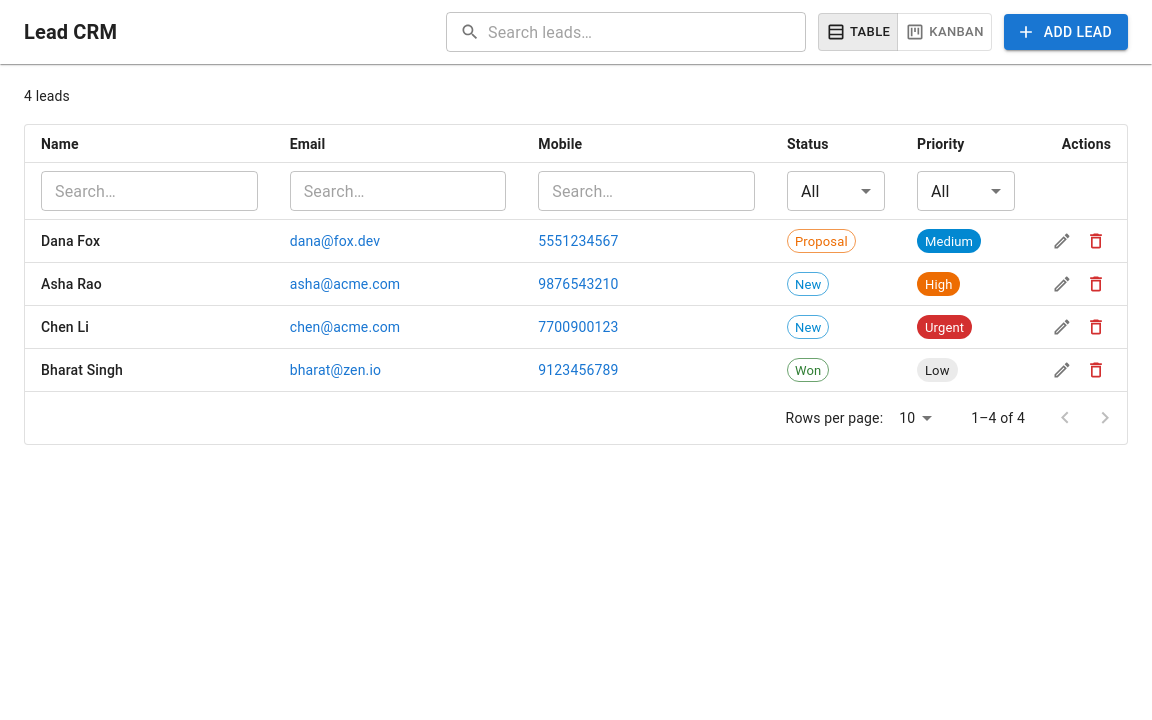
Test: App › deletes after confirmation
The width and height of the screenshot is (1152, 720).
Click the button named "Delete Chen Li": (1096, 327) x1=1081 y1=312 x2=1111 y2=342
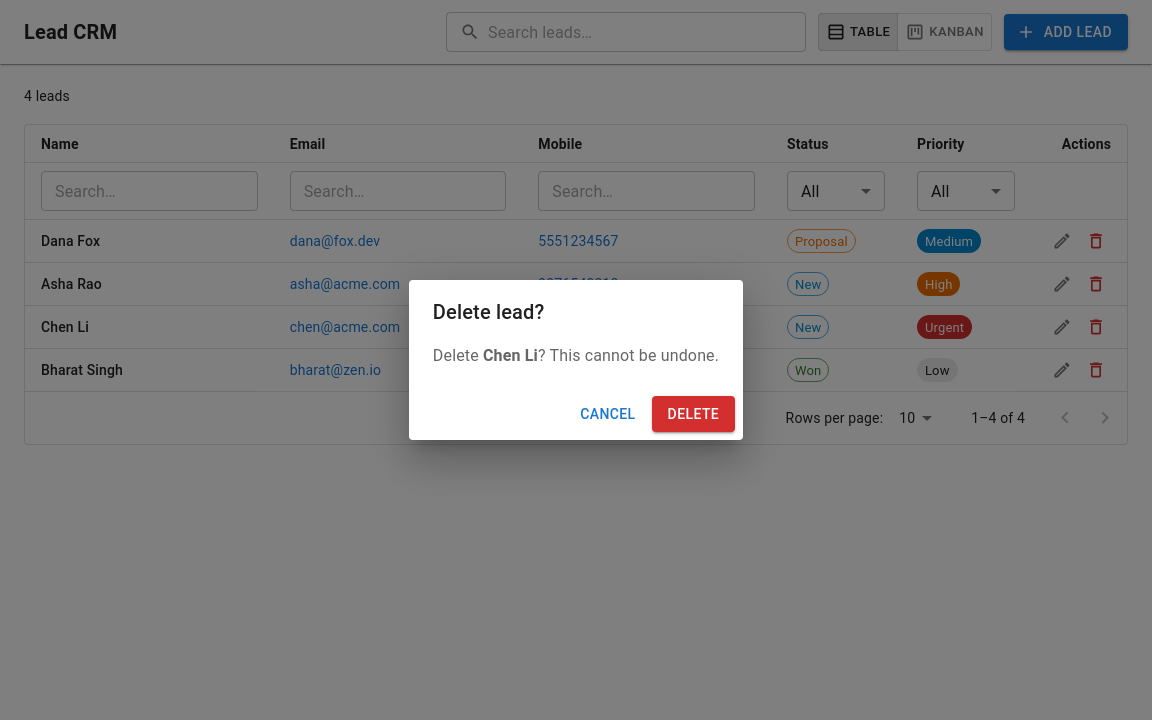
Click the button "Delete": (693, 414) x1=652 y1=396 x2=735 y2=432
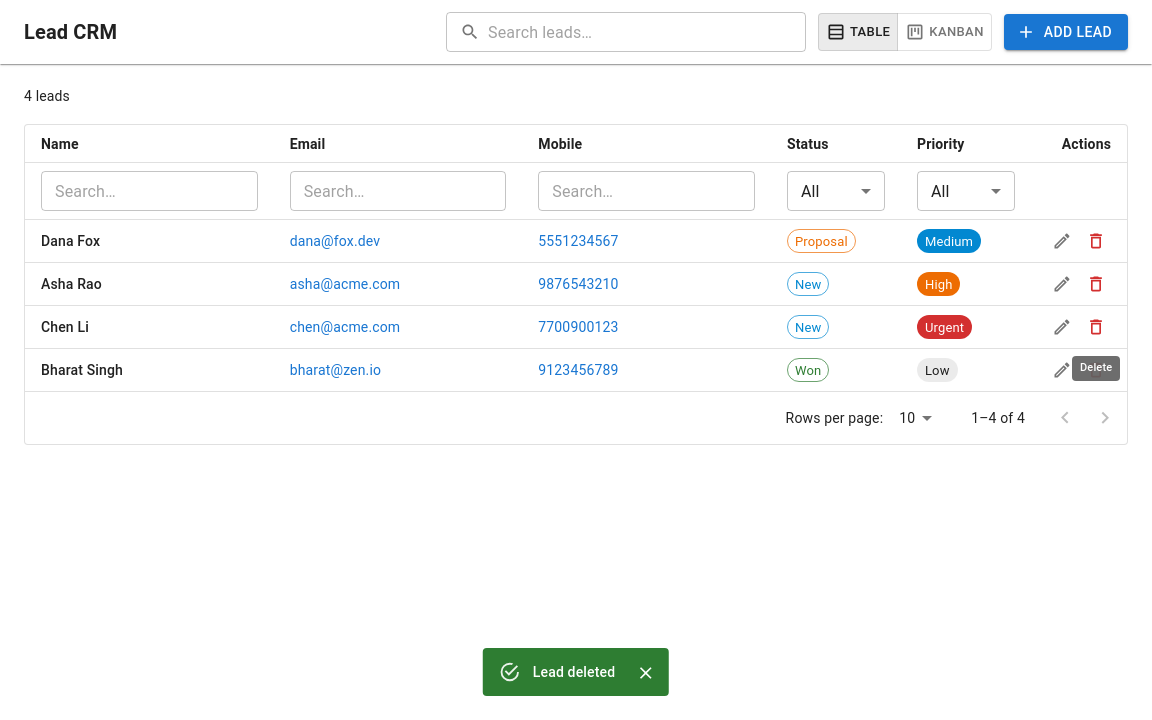
Now the text "Lead deleted" is shown, box x1=533 y1=664 x2=615 y2=680
